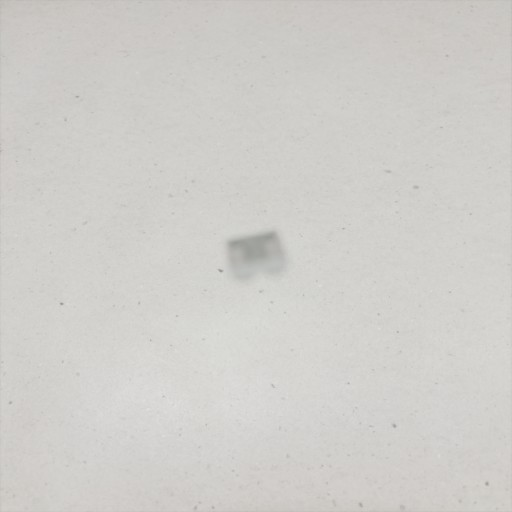lego: (223, 228, 291, 283)
